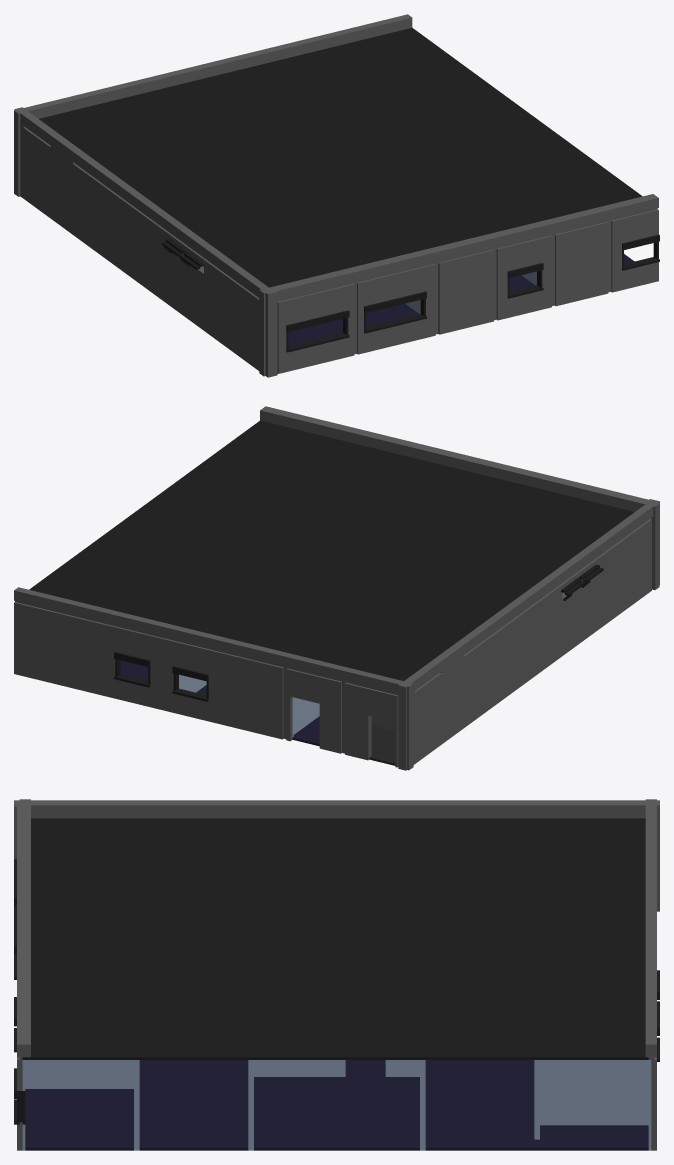
The model's file is StartupOfficeA1.obj.
3 views of the same model, one above another, from view 1: azimuth 30°, elevation 25°; view 2: azimuth 150°, elevation 25°; view 3: azimuth 270°, elevation 25° (orthographic). The views are drawn at different scales.
Bounding box in the file's own units: 20.6 × 4.1 × 22.6.
Materials: 1 (1 with a texture image).
